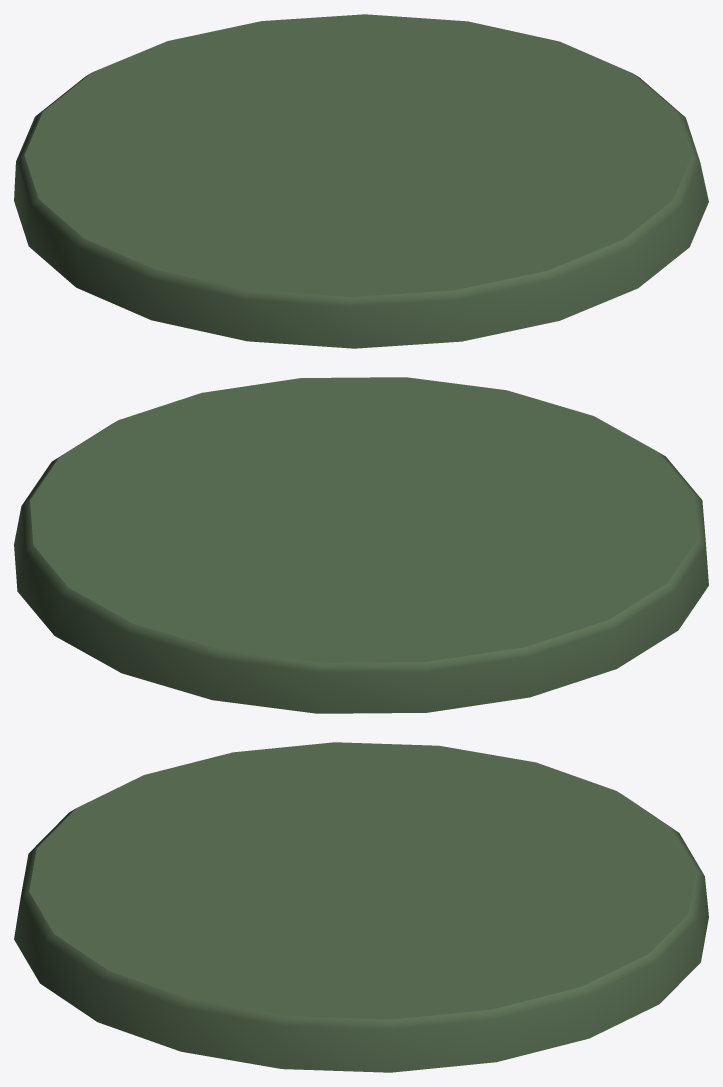
Rendered from Checker_Sp_Screw_02.fbx.
3 views of the same model, one above another, from view 1: azimuth 30°, elevation 25°; view 2: azimuth 150°, elevation 25°; view 3: azimuth 270°, elevation 25° (orthographic).
Visible parts, largest first — view 1: Checker_Sp_Screw_02; view 2: Checker_Sp_Screw_02; view 3: Checker_Sp_Screw_02.
Boxes of the visible parts, x1,y1,x2,y2 form: Checker_Sp_Screw_02: [14, 14, 708, 348]; Checker_Sp_Screw_02: [14, 377, 708, 713]; Checker_Sp_Screw_02: [14, 742, 708, 1072].
Size of the model in its own units: 2.66 by 0.2166 by 2.66.
